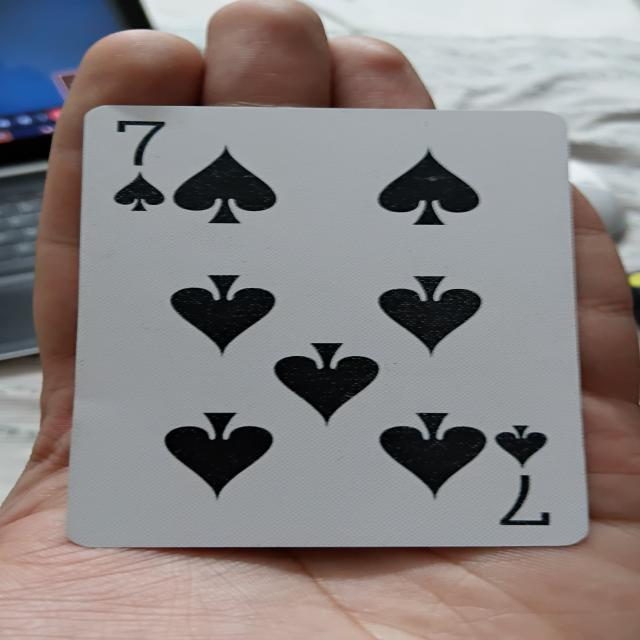7S: (84, 105, 591, 544)
